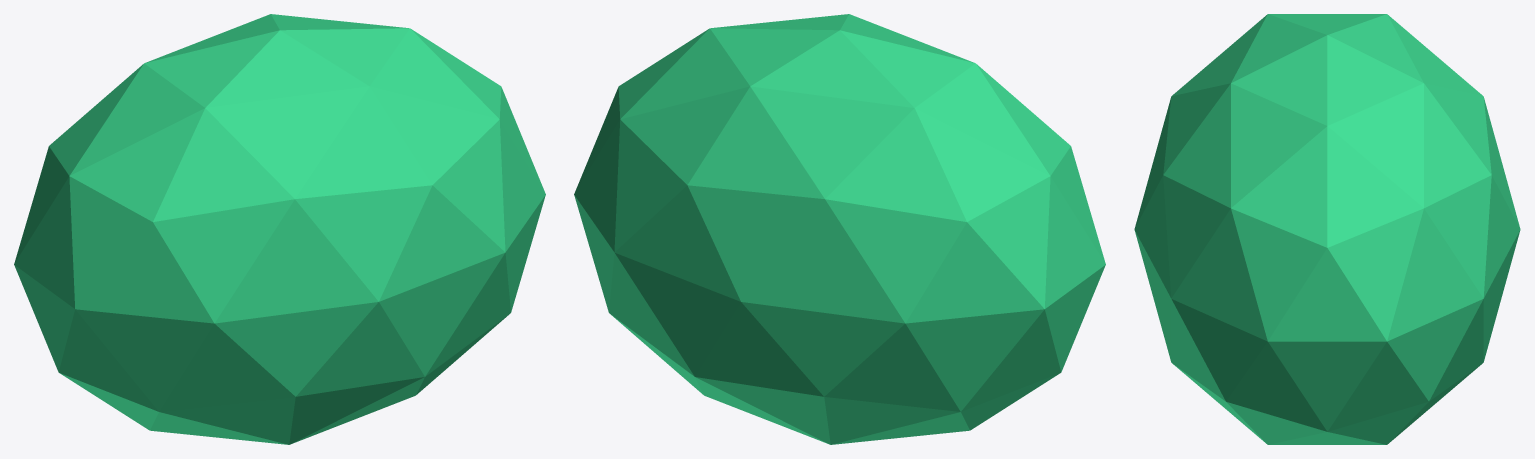
File: RockClimbing_HoldGreen.fbx
The picture shows the model from 3 angles, left to right: view 1: azimuth 30°, elevation 25°; view 2: azimuth 150°, elevation 25°; view 3: azimuth 270°, elevation 25°; orthographic projection. The views are drawn at different scales.
Visible parts, largest first — view 1: HoldGreen; view 2: HoldGreen; view 3: HoldGreen.
Part boxes in pixels (bbox=[...]): HoldGreen: bbox=[14, 14, 545, 444]; HoldGreen: bbox=[574, 14, 1105, 444]; HoldGreen: bbox=[1134, 14, 1520, 444].
Size of the model in its own units: 0.2473 by 0.2 by 0.18.
